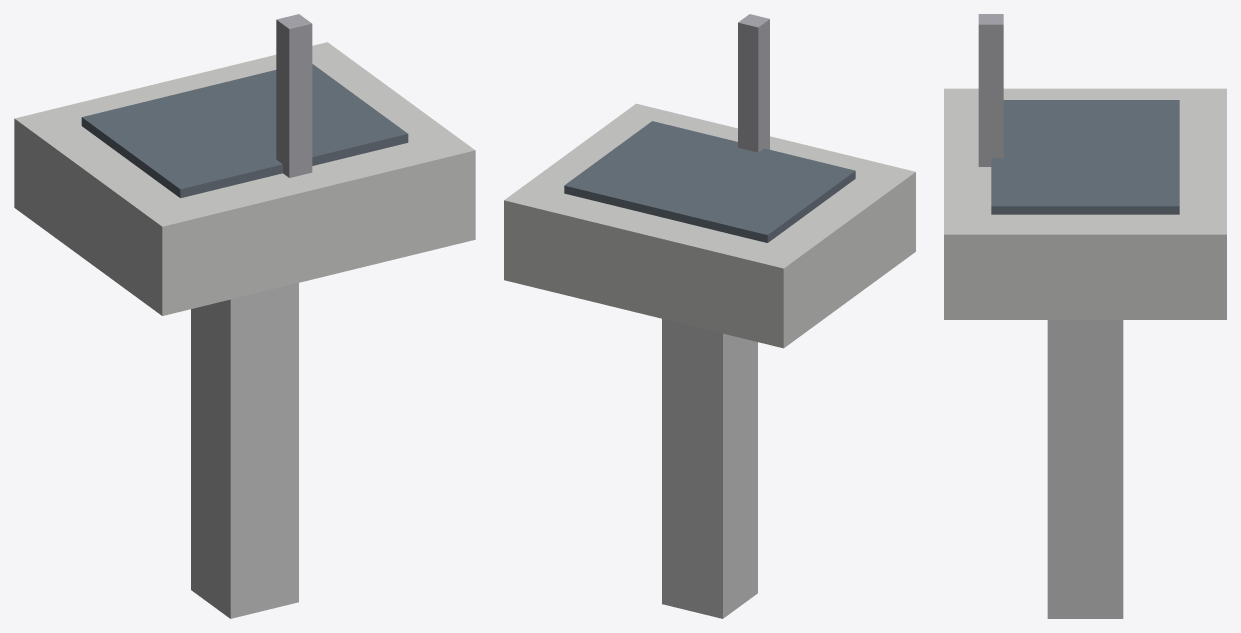
File: sink.glb
3 renders of one model, left to right at view 1: azimuth 30°, elevation 25°; view 2: azimuth 150°, elevation 25°; view 3: azimuth 270°, elevation 25°, orthographic. The views are drawn at different scales.
Parts seen in each view (by area): view 1: Sink; view 2: Sink; view 3: Sink.
Part boxes in pixels (x1=…): Sink: x1=14, y1=14, x2=475, y2=618; Sink: x1=504, y1=14, x2=915, y2=618; Sink: x1=944, y1=14, x2=1226, y2=618.
Size of the model in its own units: 0.55 by 1.02 by 0.45.
